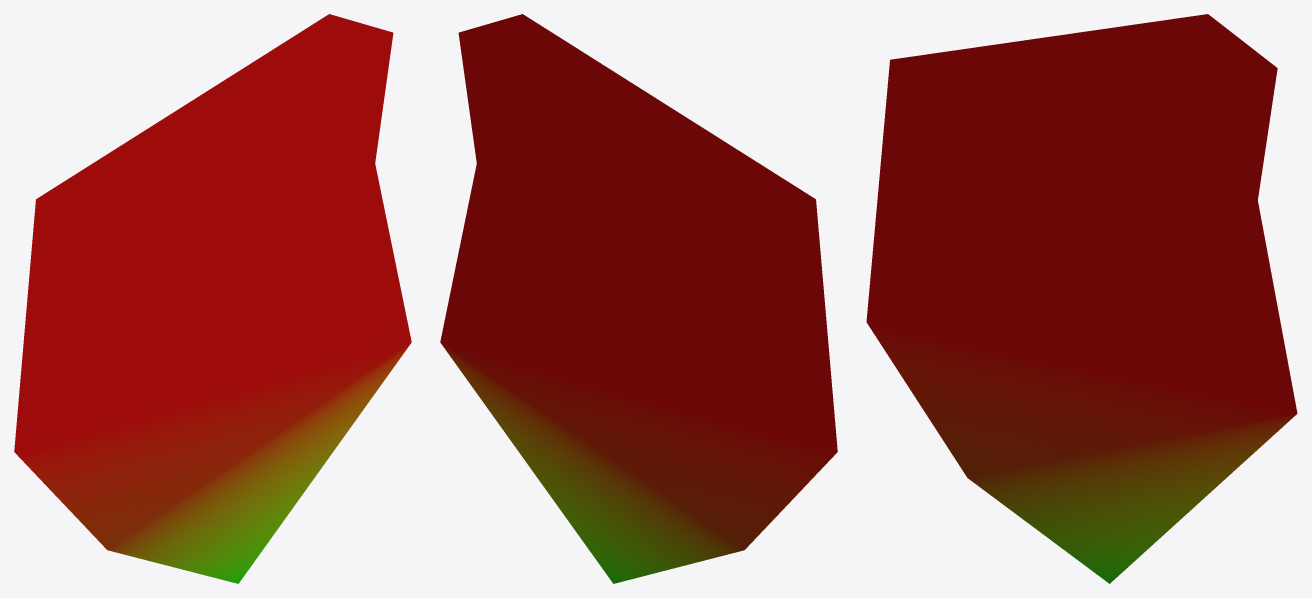
File: European Spindle_LOD4_Var8.fbx
3 views of the same model, side by side, from view 1: azimuth 30°, elevation 25°; view 2: azimuth 150°, elevation 25°; view 3: azimuth 330°, elevation 25° (orthographic). The views are drawn at different scales.
Parts seen in each view (by area): view 1: _lu5u_Var8_LOD4; view 2: _lu5u_Var8_LOD4; view 3: _lu5u_Var8_LOD4.
Part boxes in pixels (<box>): _lu5u_Var8_LOD4: <box>14,14,411,583</box>; _lu5u_Var8_LOD4: <box>440,14,837,583</box>; _lu5u_Var8_LOD4: <box>866,14,1297,583</box>.
Size of the model in its own units: 86.03 by 113 by 1.46e-11.
